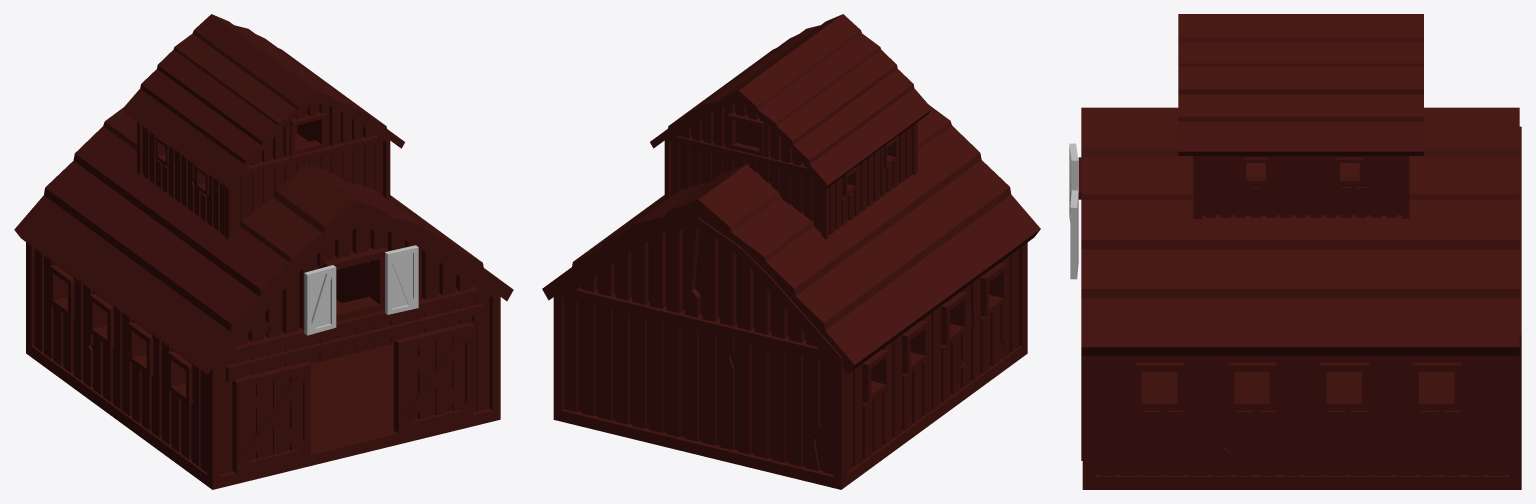
The model's file is farm.barn.t3.glb.
3 views of the same model, side by side, from view 1: azimuth 30°, elevation 25°; view 2: azimuth 150°, elevation 25°; view 3: azimuth 270°, elevation 25° (orthographic). The views are drawn at different scales.
Size of the model in its own units: 0.9397 by 0.9592 by 1.
